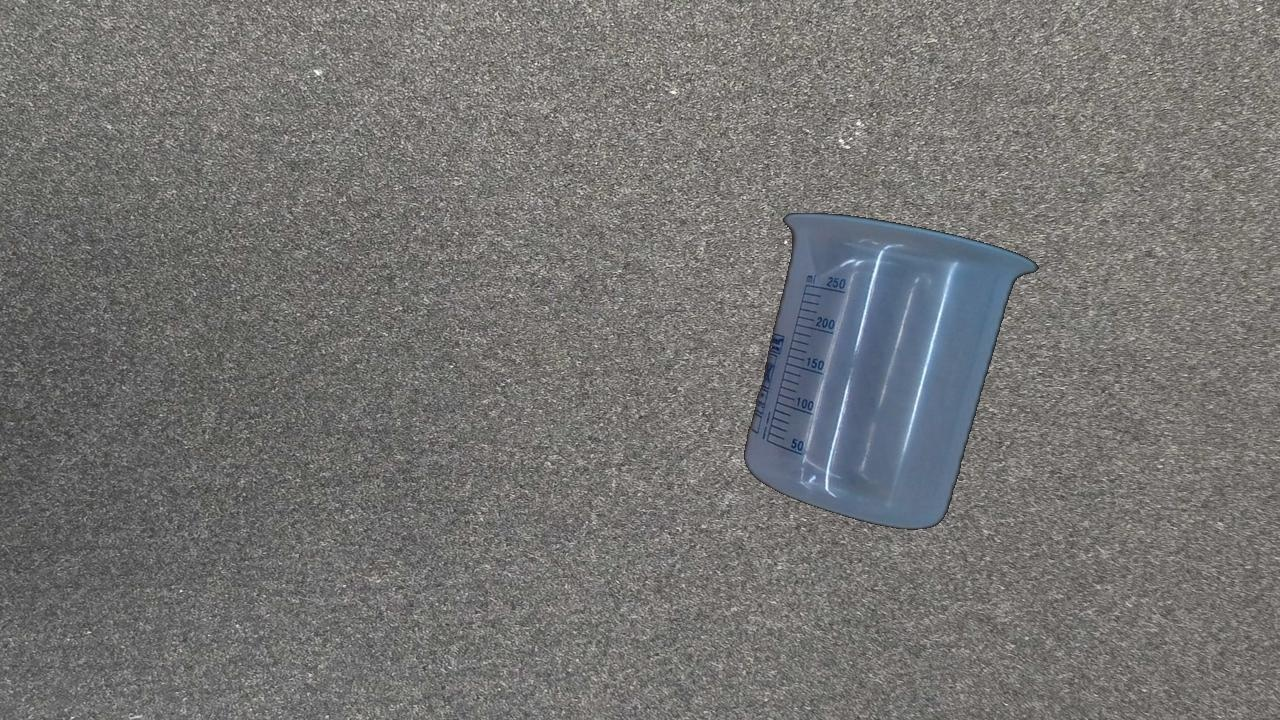becker: (743, 211, 1036, 532)
